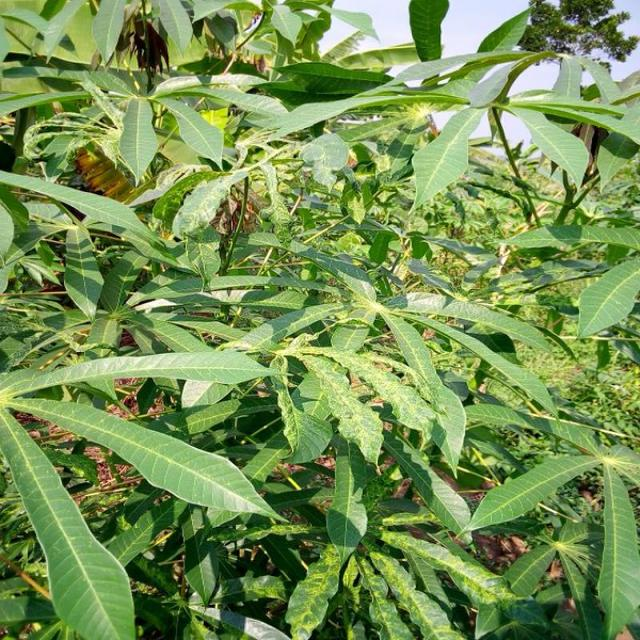cassava leaf: (2, 0, 639, 638), (11, 395, 290, 528), (2, 406, 136, 638)
